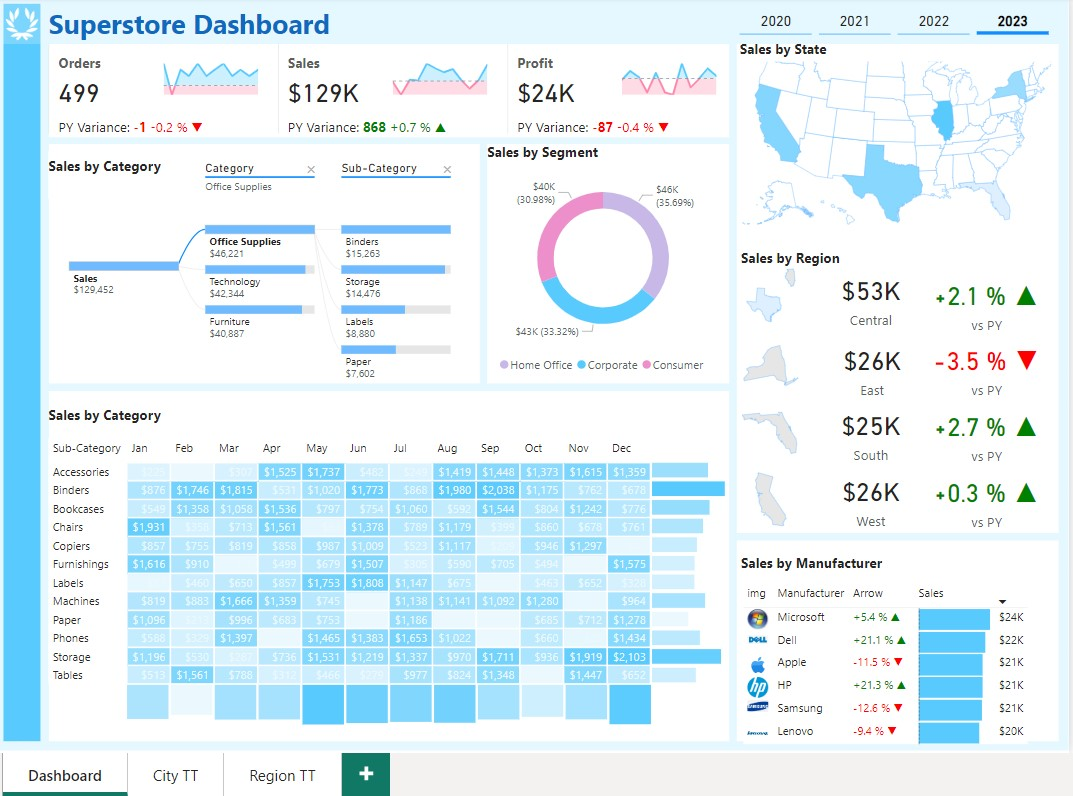

What the dashboard file says about the page in this screenshot:
{"tool":"powerbi","page":{"name":"Dashboard","canvas":[1280,900],"ordinal":0},"visuals":[{"type":"advancedSlicerVisual","fields":{"Values":["Calender.Year"]},"box":[883.9,0,381,50.6],"z":0},{"type":"cardVisual","fields":{"Data":["All Measures.Orders","All Measures.Sales","All Measures.Profit"]},"box":[61,50.6,822.9,117.6],"z":1000},{"type":"decompositionTreeVisual","title":"Sales By Category","fields":{"ExplainBy":["dim_Sub-Category.Category","dim_Sub-Category.Sub-Category"],"Analyze":["All Measures.Sales"]},"box":[61,178.6,516.4,283.9],"z":2000},{"type":"donutChart","fields":{"Y":["All Measures.Sales"],"Category":["dim_Segment.Segment"]},"box":[583.3,172.6,286.3,284.2],"z":3000},{"type":"shapeMap","fields":{"Category":["dim_City.State"],"Value":["All Measures.Sales"]},"box":[883.9,50.6,381,233.6],"z":4000},{"type":"shapeMap","fields":{"Category":["dim_City.State"],"Value":["All Measures.Sales"]},"box":[885,315.3,81.7,80],"z":5000},{"type":"shapeMap","fields":{"Category":["dim_City.State"],"Value":["All Measures.Sales"]},"box":[885,398.6,81.7,80],"z":6000},{"type":"shapeMap","fields":{"Category":["dim_City.State"],"Value":["All Measures.Sales"]},"box":[883.3,478.6,81.7,80],"z":7000},{"type":"shapeMap","fields":{"Category":["dim_City.State"],"Value":["All Measures.Sales"]},"box":[885,558.3,81.7,80],"z":8000},{"type":"card","fields":{"Values":["All Measures.Sales"]},"box":[980.2,319.9,129.5,77.4],"z":9000},{"type":"card","fields":{"Values":["All Measures.Sales"]},"box":[981.7,403.3,129.5,77.4],"z":10000},{"type":"card","fields":{"Values":["All Measures.Sales"]},"box":[980.2,480.7,129.5,77.4],"z":11000},{"type":"card","fields":{"Values":["All Measures.Sales"]},"box":[980.2,559.5,129.5,77.4],"z":12000},{"type":"card","fields":{"Values":["All Measures.Sales Arrow"]},"box":[1105,325.9,155,77.4],"z":13000},{"type":"card","fields":{"Values":["All Measures.Sales Arrow"]},"box":[1105,403,155,77.4],"z":14000},{"type":"card","fields":{"Values":["All Measures.Sales Arrow"]},"box":[1105,482.1,155,77.4],"z":15000},{"type":"card","fields":{"Values":["All Measures.Sales Arrow"]},"box":[1105,561,155,77.4],"z":16000},{"type":"textbox","box":[61,184.5,171.1,46.1],"z":17000},{"type":"textbox","box":[885.4,294.6,171.1,46.1],"z":18000},{"type":"textbox","box":[61,480.7,171.1,46.1],"z":19000},{"type":"pivotTable","fields":{"Rows":["dim_Sub-Category.Sub-Category"],"Columns":["Calender.Month"],"Values":["All Measures.Sales"]},"box":[61,520.8,727.7,319.9],"z":20000},{"type":"clusteredBarChart","fields":{"Y":["All Measures.Sales"],"Category":["dim_Sub-Category.Sub-Category"]},"box":[779.8,541.7,123.5,279.8],"z":21000},{"type":"columnChart","fields":{"Category":["Calender.Month"],"Y":["All Measures.Sales"]},"box":[154.8,805.1,633.9,78.9],"z":22000},{"type":"textbox","box":[885.4,657.7,189,46.1],"z":23000},{"type":"tableEx","fields":{"Values":["dim_Manufacturer.Manufacturer Images.img","dim_Manufacturer.Manufacturer","All Measures.Sales Arrow","All Measures.Sales Bar","All Measures.Sales"]},"box":[886.9,693.5,378,206.8],"z":24000},{"type":"textbox","box":[61,4.5,383.9,56.5],"z":25000}]}

Visuals, with their boxes on the page's 1280x900 design canvas (x1, y1, x2, y2). These are canvas units, not pixel positions in the 1073x796 screenshot, which may show the page scaled, cropped or inside an application window:
advancedSlicerVisual - Calender.Year: pyautogui.locateOnScreen(884, 0, 1265, 51)
cardVisual - All Measures.Orders x All Measures.Sales: pyautogui.locateOnScreen(61, 51, 884, 168)
"Sales By Category" decompositionTreeVisual: pyautogui.locateOnScreen(61, 179, 577, 462)
donutChart - All Measures.Sales x dim_Segment.Segment: pyautogui.locateOnScreen(583, 173, 870, 457)
shapeMap - dim_City.State x All Measures.Sales: pyautogui.locateOnScreen(884, 51, 1265, 284)
shapeMap - dim_City.State x All Measures.Sales: pyautogui.locateOnScreen(885, 315, 967, 395)
shapeMap - dim_City.State x All Measures.Sales: pyautogui.locateOnScreen(885, 399, 967, 479)
shapeMap - dim_City.State x All Measures.Sales: pyautogui.locateOnScreen(883, 479, 965, 559)
shapeMap - dim_City.State x All Measures.Sales: pyautogui.locateOnScreen(885, 558, 967, 638)
card - All Measures.Sales: pyautogui.locateOnScreen(980, 320, 1110, 397)
card - All Measures.Sales: pyautogui.locateOnScreen(982, 403, 1111, 481)
card - All Measures.Sales: pyautogui.locateOnScreen(980, 481, 1110, 558)
card - All Measures.Sales: pyautogui.locateOnScreen(980, 560, 1110, 637)
card - All Measures.Sales Arrow: pyautogui.locateOnScreen(1105, 326, 1260, 403)
card - All Measures.Sales Arrow: pyautogui.locateOnScreen(1105, 403, 1260, 480)
card - All Measures.Sales Arrow: pyautogui.locateOnScreen(1105, 482, 1260, 560)
card - All Measures.Sales Arrow: pyautogui.locateOnScreen(1105, 561, 1260, 638)
textbox: pyautogui.locateOnScreen(61, 184, 232, 231)
textbox: pyautogui.locateOnScreen(885, 295, 1056, 341)
textbox: pyautogui.locateOnScreen(61, 481, 232, 527)
pivotTable - dim_Sub-Category.Sub-Category x Calender.Month: pyautogui.locateOnScreen(61, 521, 789, 841)
clusteredBarChart - All Measures.Sales x dim_Sub-Category.Sub-Category: pyautogui.locateOnScreen(780, 542, 903, 822)
columnChart - Calender.Month x All Measures.Sales: pyautogui.locateOnScreen(155, 805, 789, 884)
textbox: pyautogui.locateOnScreen(885, 658, 1074, 704)
tableEx - dim_Manufacturer.Manufacturer Images.img x dim_Manufacturer.Manufacturer: pyautogui.locateOnScreen(887, 694, 1265, 900)
textbox: pyautogui.locateOnScreen(61, 4, 445, 61)
